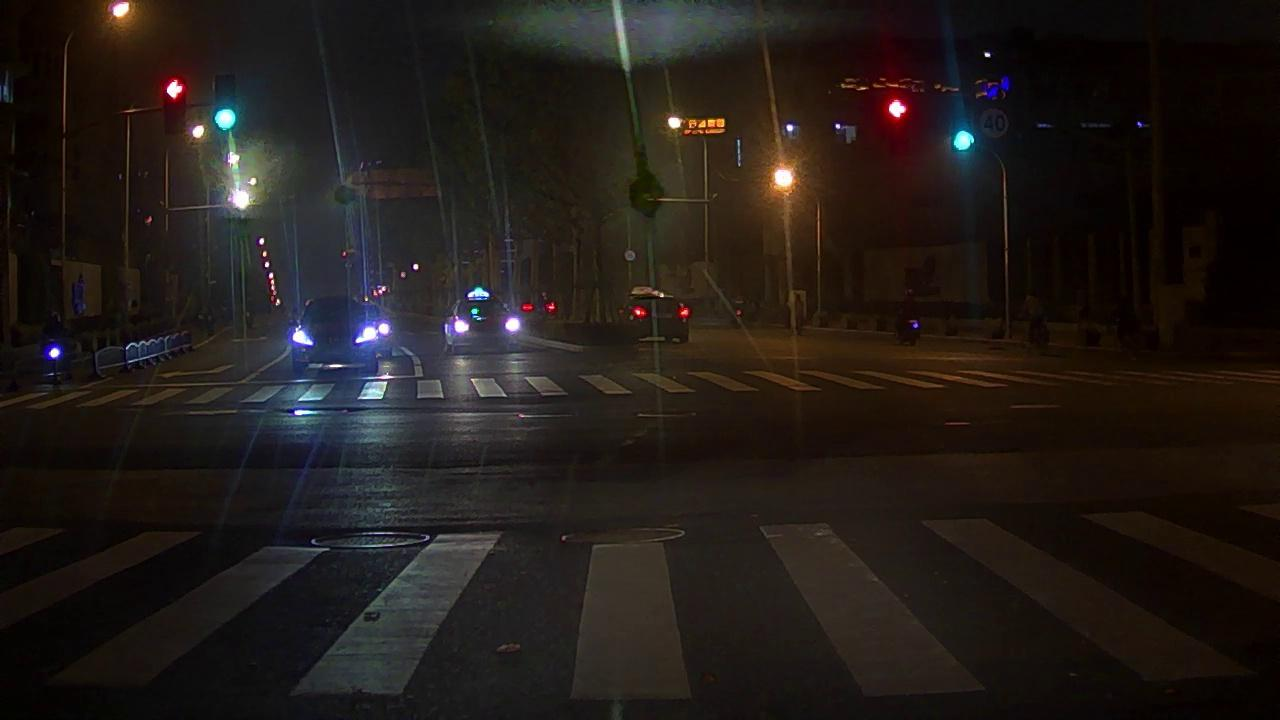traffic_light: (166, 80, 187, 133), (216, 79, 236, 131), (885, 99, 906, 119), (955, 131, 972, 151)
